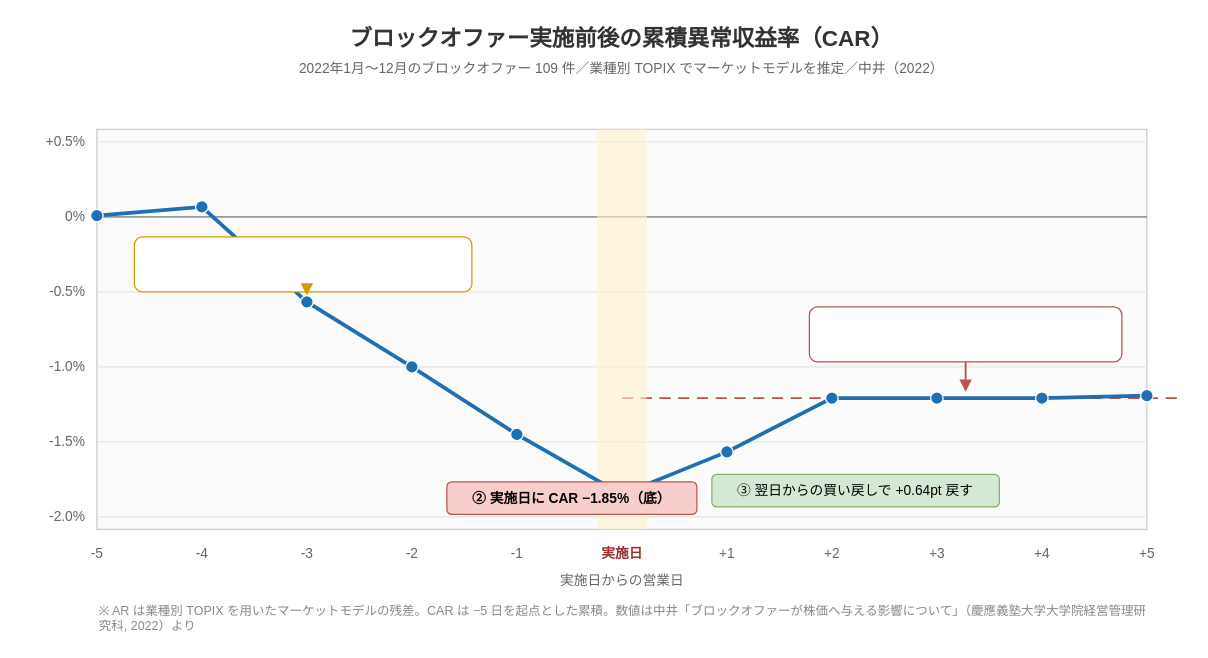
The diagram is 1208 pixels wide and 658 high, and some of its shapes have lost their labels. The centre of each missing label's shape, as x and y in pixels:
① 3 営業日前から下落が始まる 空売りの新規建てが増え出すのと同じタイミング: the point at 302,264
④ −1.2% で止まり、そこから戻らない ＝恒久的インパクト: the point at 965,334
